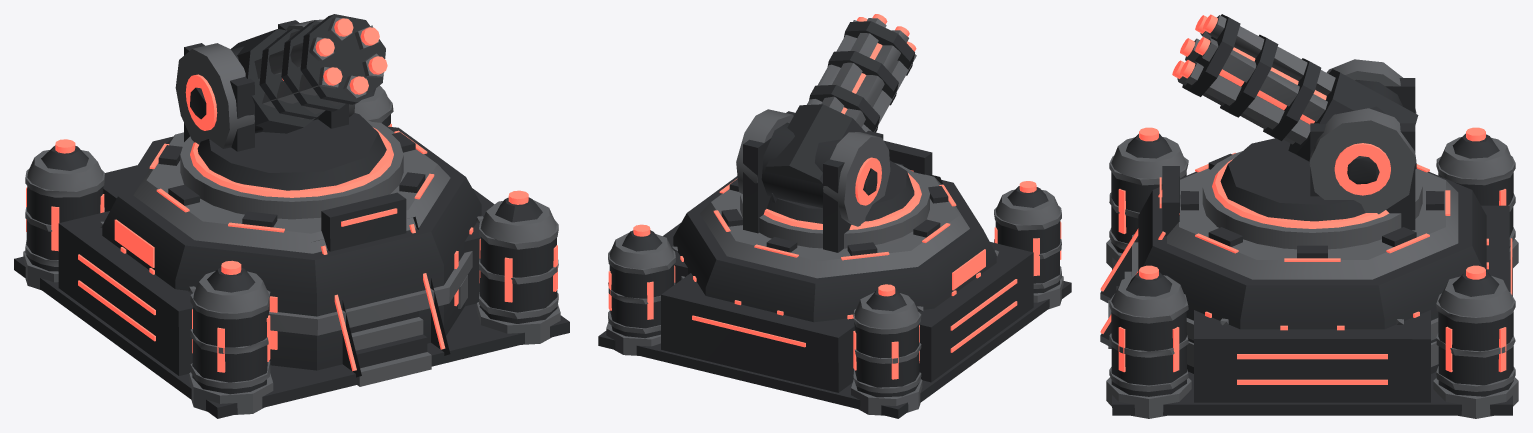
The model's file is sb_bunker_t1.glb.
3 renders of one model, left to right at view 1: azimuth 30°, elevation 25°; view 2: azimuth 150°, elevation 25°; view 3: azimuth 270°, elevation 25°, orthographic. The views are drawn at different scales.
Parts seen in each view (by area): view 1: SM_BK_BODY, SM_BK_TURRET, SM_BK_LIGHTS, SM_BK_TURRET_LIGHTS; view 2: SM_BK_BODY, SM_BK_TURRET, SM_BK_LIGHTS, SM_BK_TURRET_LIGHTS; view 3: SM_BK_BODY, SM_BK_TURRET, SM_BK_LIGHTS, SM_BK_TURRET_LIGHTS.
Part boxes in pixels (left/top/right/bottom): SM_BK_BODY: left=14, top=85, right=569, bottom=418; SM_BK_TURRET: left=175, top=14, right=386, bottom=190; SM_BK_LIGHTS: left=26, top=123, right=557, bottom=372; SM_BK_TURRET_LIGHTS: left=185, top=18, right=387, bottom=130; SM_BK_BODY: left=598, top=140, right=1071, bottom=418; SM_BK_TURRET: left=736, top=18, right=916, bottom=252; SM_BK_LIGHTS: left=608, top=170, right=1061, bottom=379; SM_BK_TURRET_LIGHTS: left=841, top=14, right=916, bottom=205; SM_BK_BODY: left=1100, top=133, right=1518, bottom=418; SM_BK_TURRET: left=1177, top=14, right=1418, bottom=230; SM_BK_LIGHTS: left=1100, top=127, right=1512, bottom=384; SM_BK_TURRET_LIGHTS: left=1172, top=14, right=1390, bottom=195.
Size of the model in its own units: 30.18 by 26.39 by 30.62.
